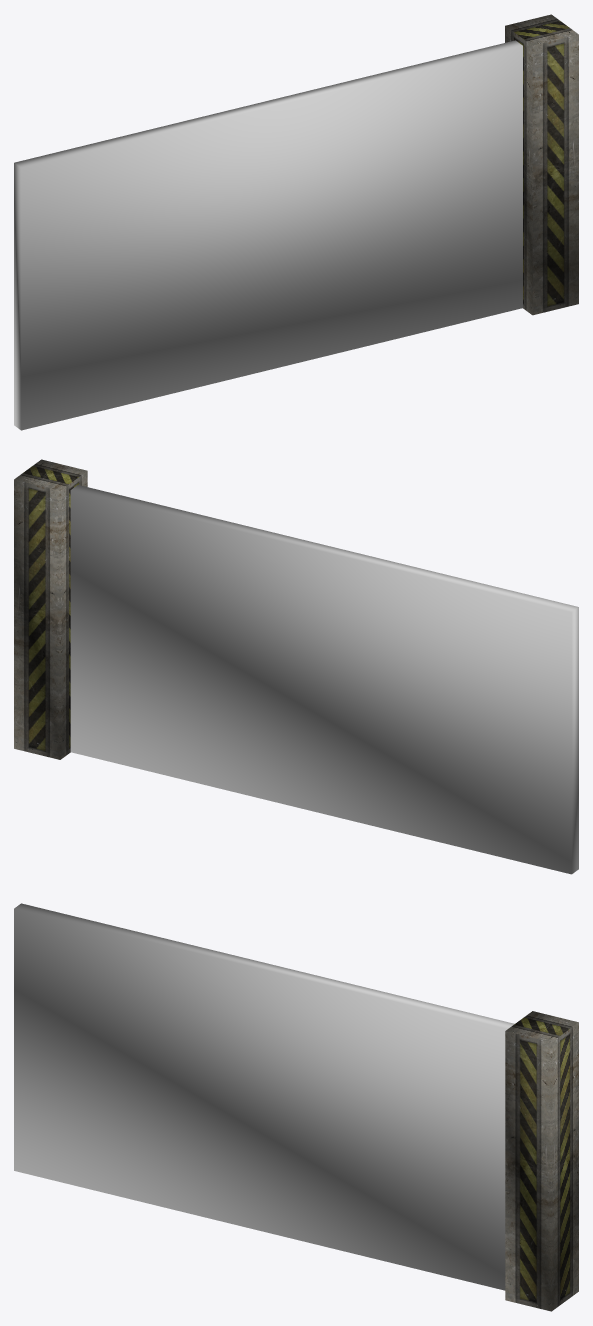
Rendered from wall.fbx.
3 renders of one model, top to bottom at view 1: azimuth 30°, elevation 25°; view 2: azimuth 150°, elevation 25°; view 3: azimuth 330°, elevation 25°, orthographic.
Parts seen in each view (by area): view 1: Mesh; view 2: Mesh; view 3: Mesh.
Boxes of the visible parts, left/top/right/bottom form: Mesh: left=14, top=14, right=578, bottom=430; Mesh: left=14, top=459, right=578, bottom=874; Mesh: left=14, top=903, right=578, bottom=1311.
Bounding box in the file's own units: 437 × 205 × 37.93.
